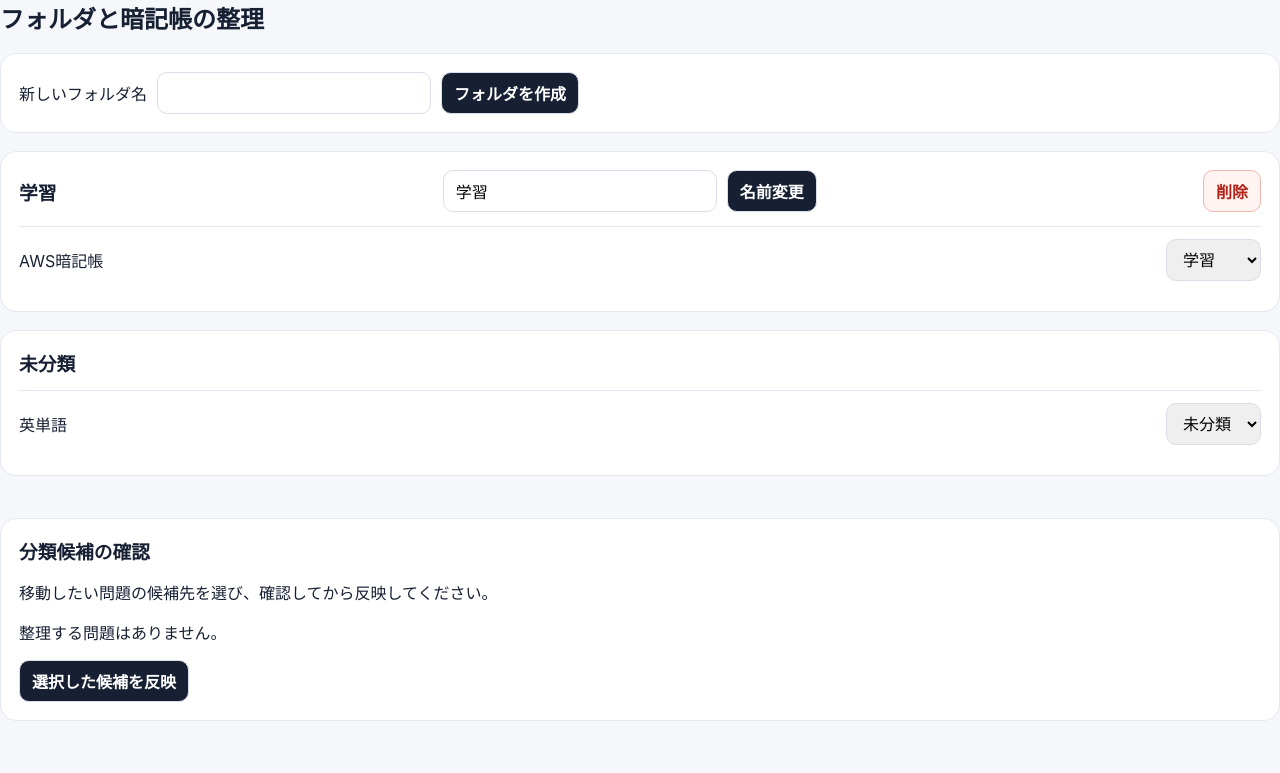
Test: OrganizationView › creates and renames a folder through labeled forms
The image size is (1280, 773).
Type "  資格  " into the field labelled "新しいフォルダ名" at (294, 93), box [157, 72, 431, 114]
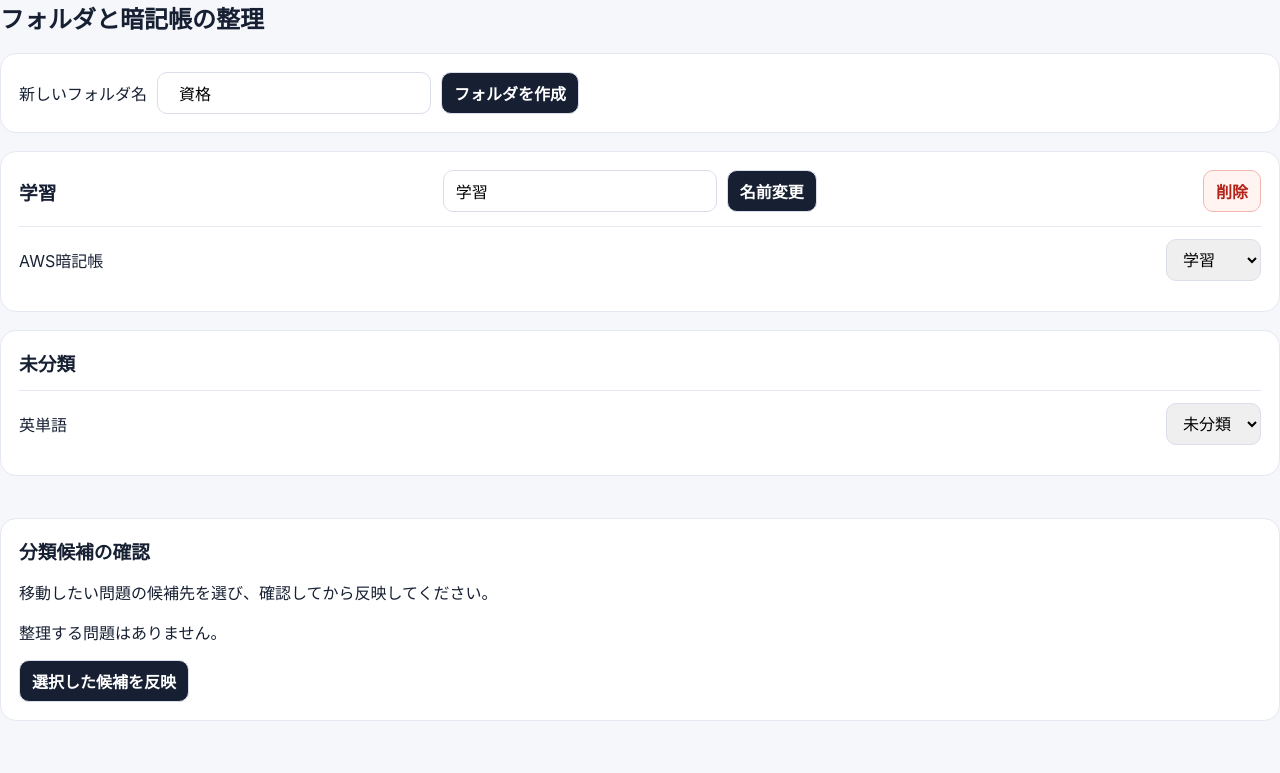
Click the button "フォルダを作成" at (510, 93), box [441, 72, 579, 114]
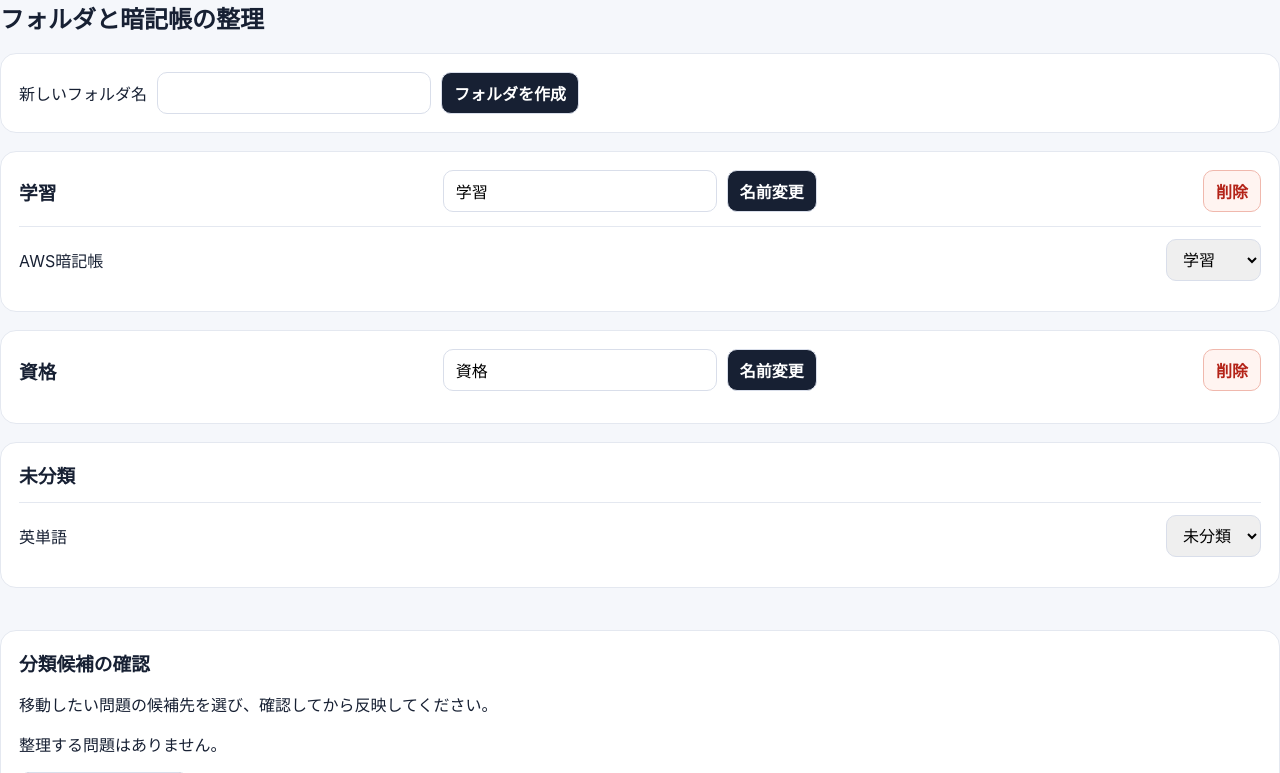
Expected: the element "資格" is shown, [0, 330, 1279, 424]
Replace the text in the field named "学習のフォルダ名" with "復習" at (580, 191), box [443, 170, 717, 212]
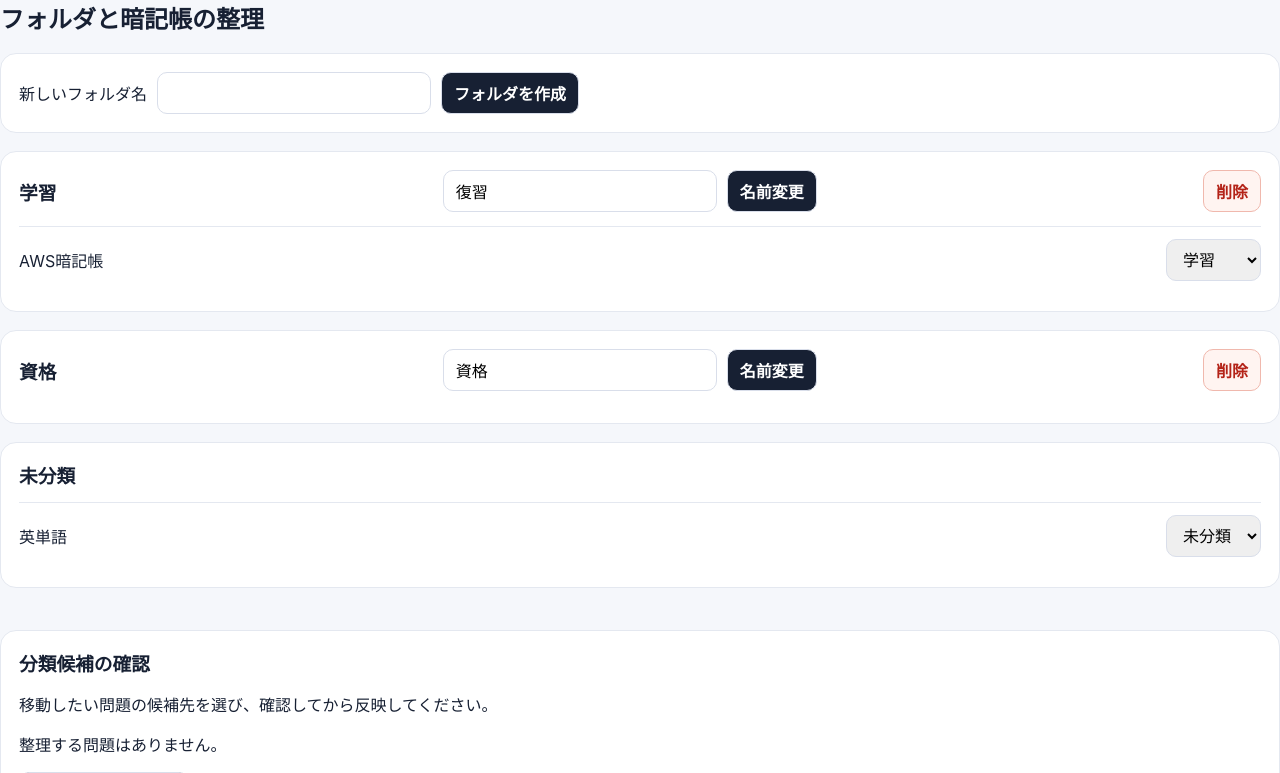
Click the button with aria-label "学習を名前変更" at (772, 191), box [727, 170, 817, 212]
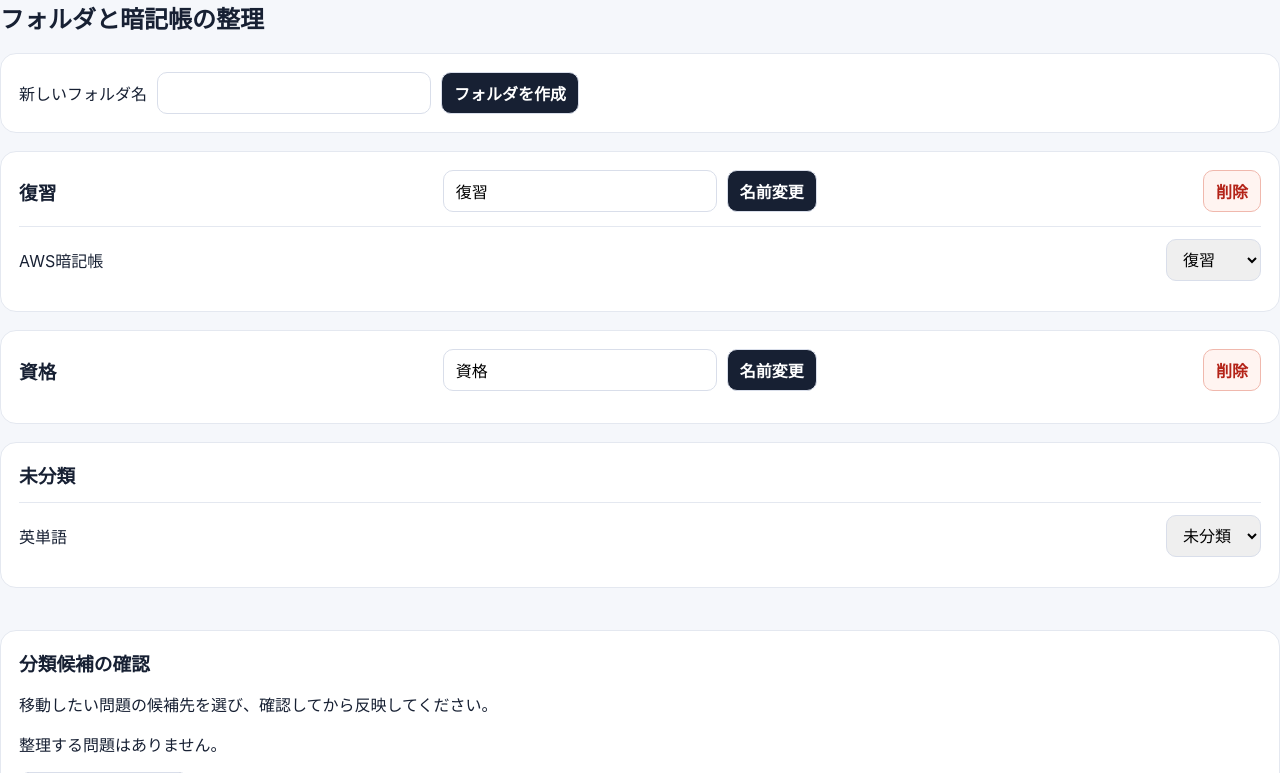
Expected: the element "復習" is shown, [0, 151, 1279, 312]
